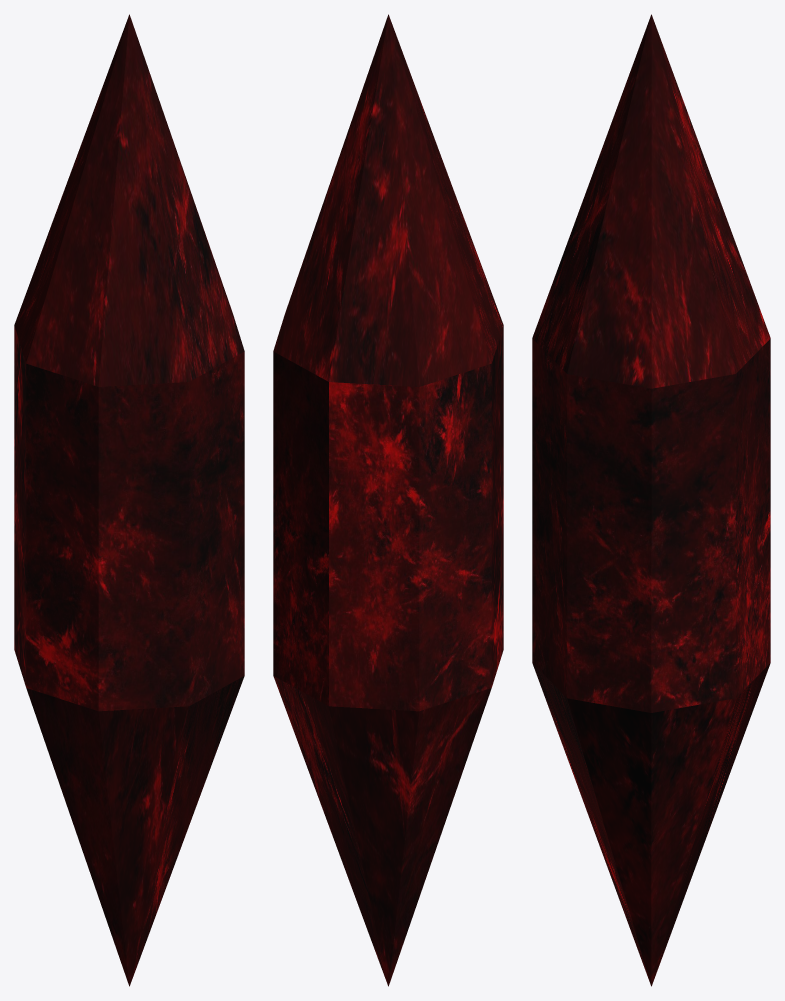
File: CrystalDoubleJump.fbx
3 renders of one model, left to right at view 1: azimuth 30°, elevation 25°; view 2: azimuth 150°, elevation 25°; view 3: azimuth 270°, elevation 25°, orthographic.
Visible parts, largest first — view 1: Cylinder; view 2: Cylinder; view 3: Cylinder.
Boxes of the visible parts, box(x1,y1,x2,y2) form: Cylinder: box(14, 14, 244, 986); Cylinder: box(273, 14, 503, 986); Cylinder: box(532, 14, 770, 986).
Size of the model in its own units: 200 by 900 by 200.
